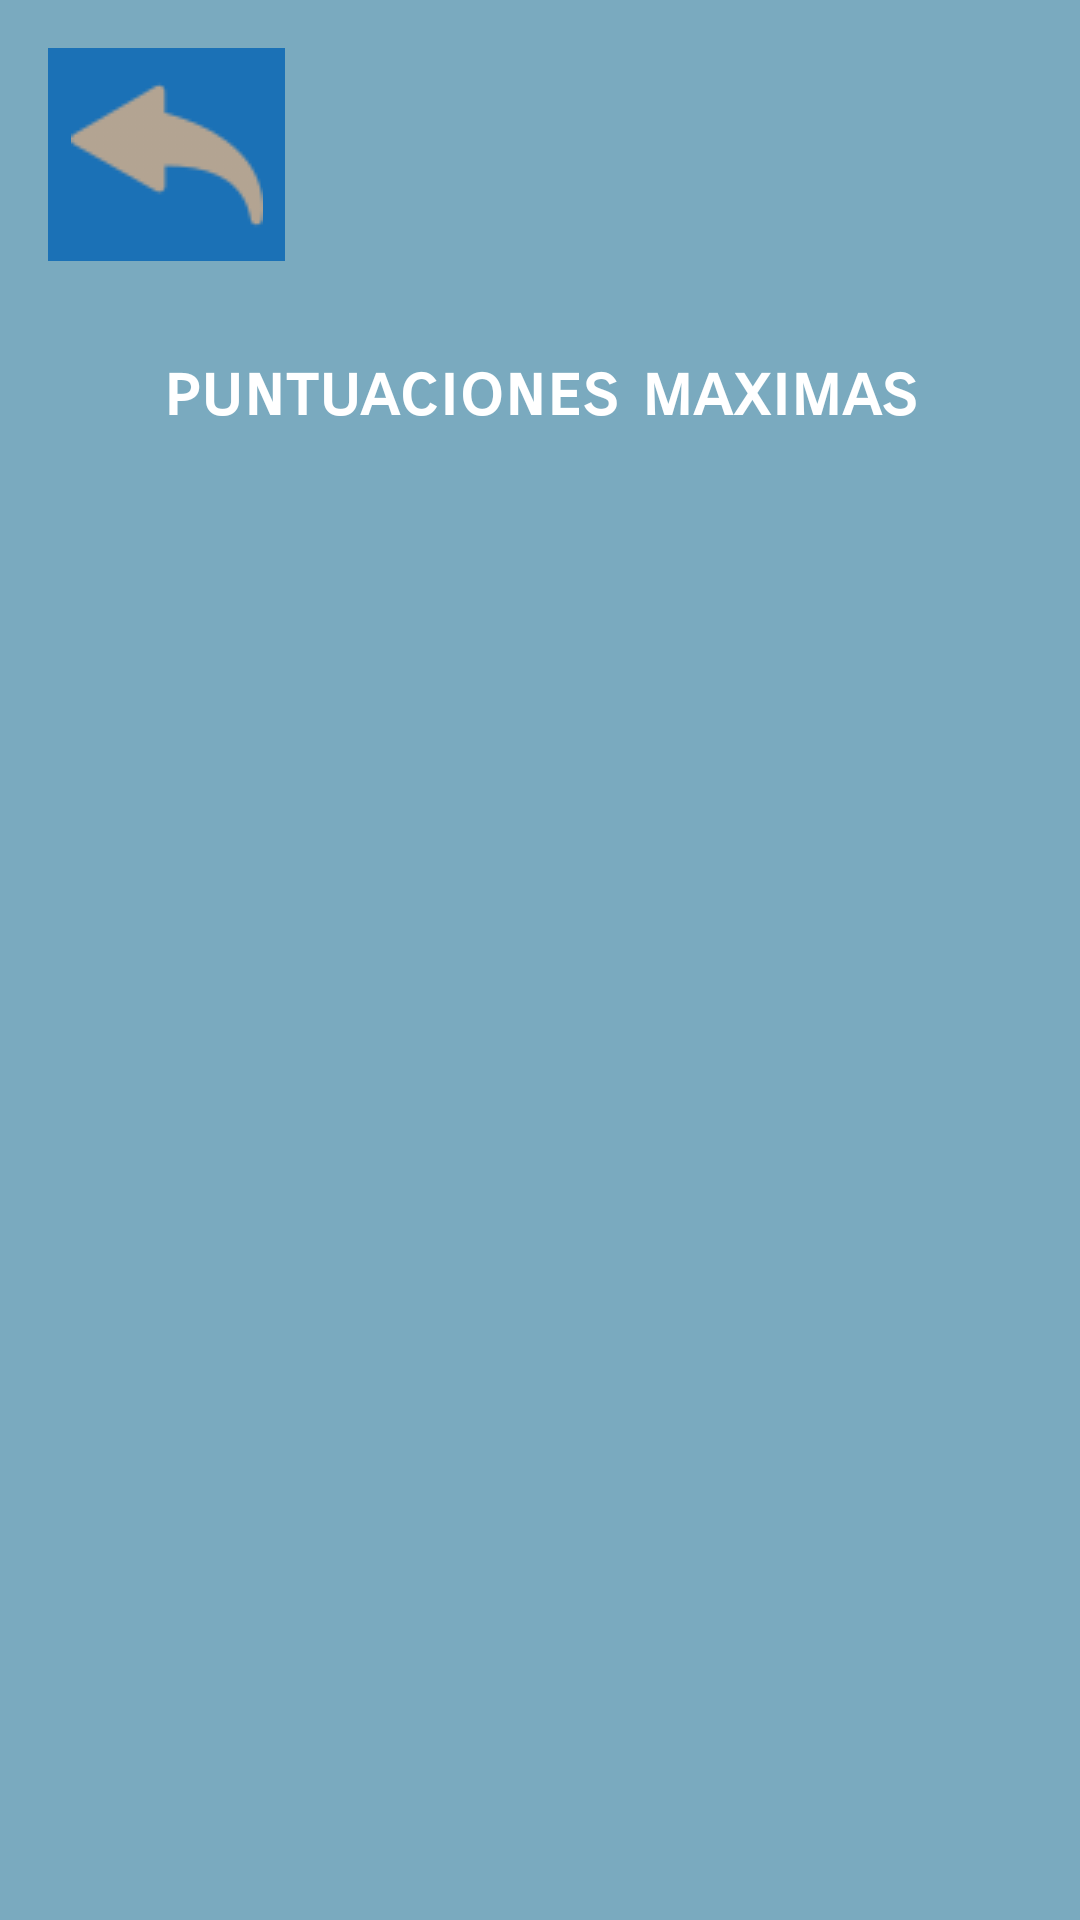

Icons on this 1080px x 1920px Android screen, each with its box as (x1, y1, x2, y2):
flechaizquierda: (48, 48, 285, 261)
